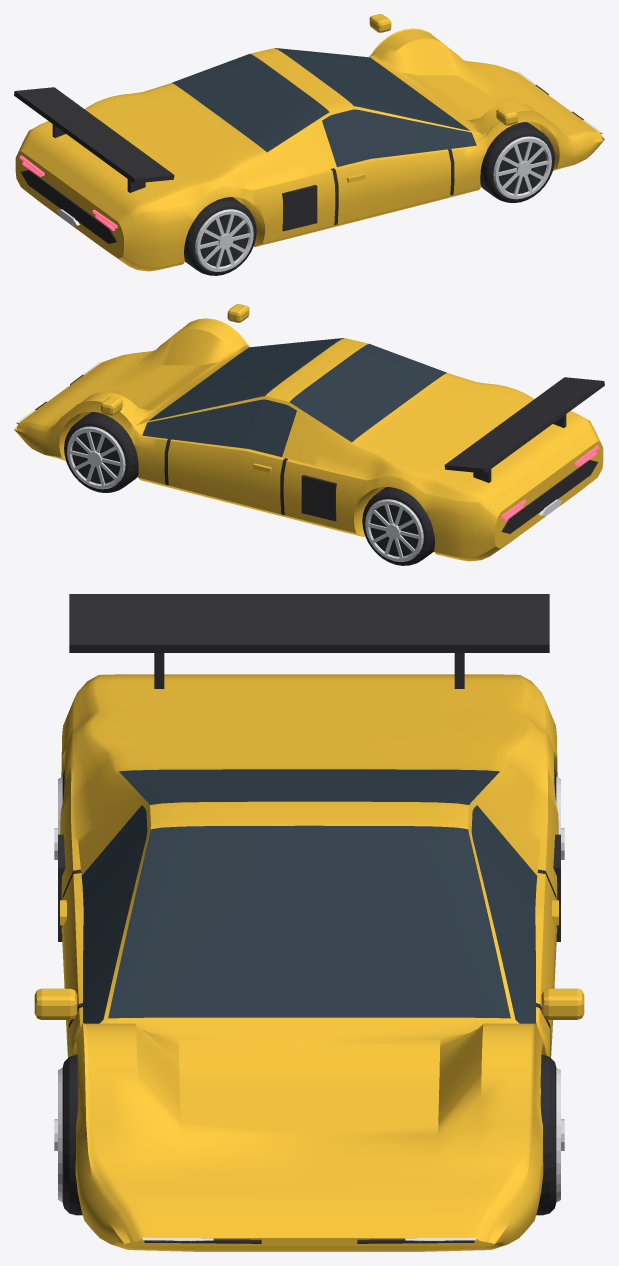
Rendered from lamborgini_aventadoor.fbx.
3 views of the same model, one above another, from view 1: azimuth 30°, elevation 25°; view 2: azimuth 150°, elevation 25°; view 3: azimuth 270°, elevation 25° (orthographic). The views are drawn at different scales.
Parts seen in each view (by area): view 1: Body.017, Glass.017, Trim.017, Tire.017, Rim.017, TailLight.017; view 2: Body.017, Glass.017, Trim.017, Tire.017, Rim.017, TailLight.017; view 3: Body.017, Glass.017, Trim.017, Tire.017, Rim.017.
Part boxes in pixels (x1,y1,x2,y2): Body.017: [15, 14, 604, 271]; Glass.017: [172, 48, 476, 167]; Trim.017: [14, 85, 602, 266]; Tire.017: [184, 122, 554, 275]; Rim.017: [195, 136, 551, 271]; TailLight.017: [19, 155, 117, 230]; Body.017: [14, 304, 603, 561]; Glass.017: [142, 338, 446, 457]; Trim.017: [16, 375, 604, 555]; Tire.017: [64, 412, 434, 565]; Rim.017: [67, 426, 423, 561]; TailLight.017: [501, 445, 599, 520]; Body.017: [34, 674, 584, 1251]; Glass.017: [81, 769, 537, 1023]; Trim.017: [58, 594, 560, 1243]; Tire.017: [62, 770, 556, 1215]; Rim.017: [54, 776, 564, 1202].
Bounding box in the file's own units: 1597 × 370 × 769.
